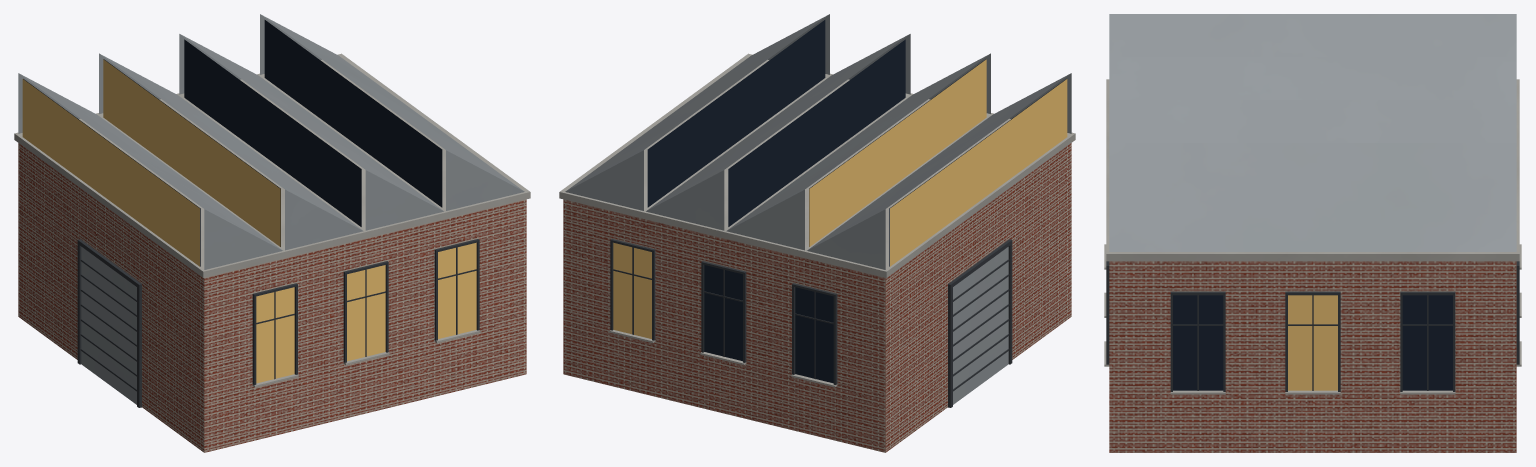
File: pv_hala_pilova.glb
3 renders of one model, left to right at view 1: azimuth 30°, elevation 25°; view 2: azimuth 150°, elevation 25°; view 3: azimuth 270°, elevation 25°, orthographic. The views are drawn at different scales.
Parts seen in each view (by area): view 1: dum, noc; view 2: dum, noc; view 3: dum, noc.
Boxes of the visible parts, x1,y1,x2,y2 form: dum: (14,14,530,452); noc: (22,59,476,383); dum: (559,14,1075,452); noc: (613,59,1067,338); dum: (1104,14,1521,452); noc: (1288,295,1337,390).
Size of the model in its own units: 13.25 by 9.38 by 13.29.
1 material, 1 textured.
